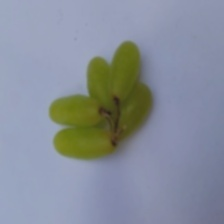grapes: (32, 32, 206, 191)
